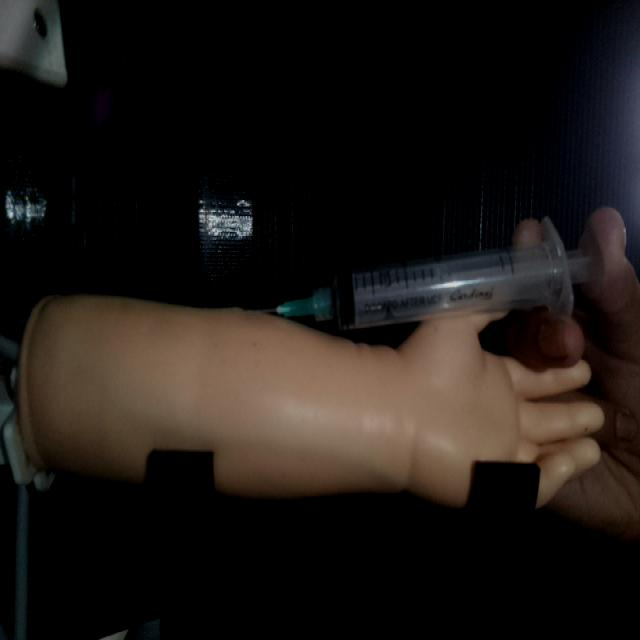Below 15 degrees: (260, 214, 594, 334)
